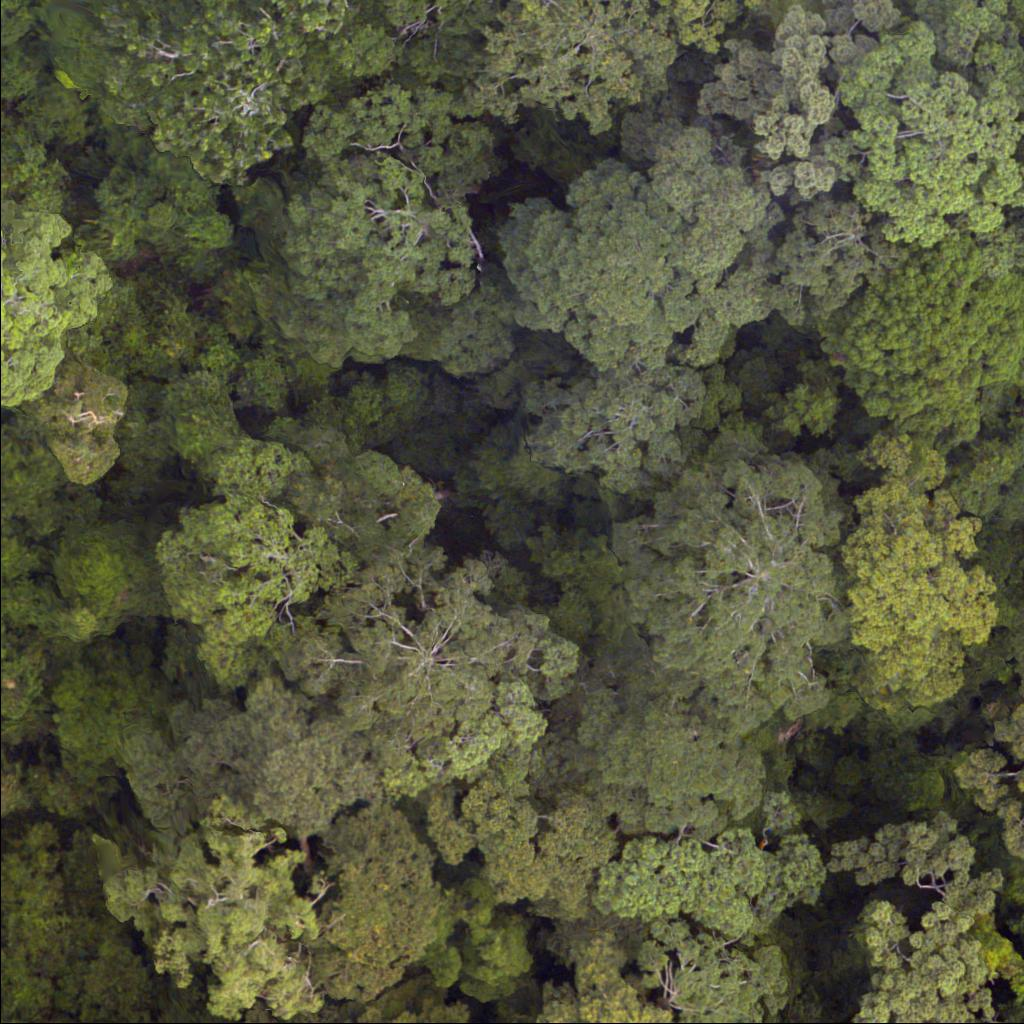crown: (503, 107, 802, 377), (606, 470, 862, 723), (836, 461, 1023, 708), (74, 828, 323, 1010), (163, 439, 356, 672), (525, 662, 774, 836), (824, 28, 1023, 239), (827, 819, 1006, 1023), (720, 0, 889, 208), (428, 765, 603, 920), (309, 820, 440, 1018), (0, 199, 119, 404), (525, 365, 703, 502), (475, 0, 673, 121), (945, 662, 1023, 872), (543, 924, 685, 1023), (358, 0, 524, 59), (654, 0, 814, 56), (883, 0, 1023, 46), (997, 900, 1023, 1023), (1019, 866, 1023, 873)
